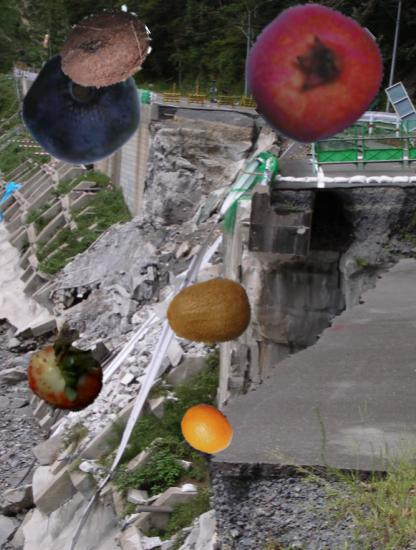Blueberry: (25, 48, 145, 168)
Cocos: (57, 1, 152, 96)
Kiwi: (163, 266, 254, 357)
Lemon: (179, 401, 236, 458)
Pomegranate: (245, 3, 383, 141)
Strawberry: (21, 329, 111, 419)
